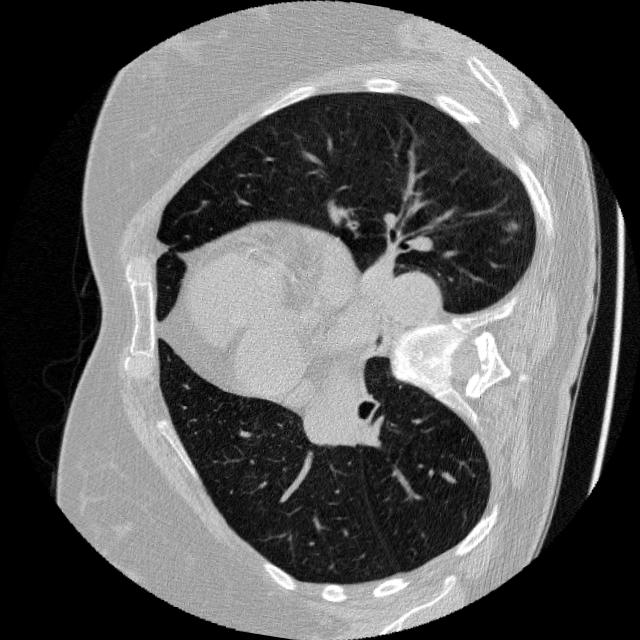nodule: (496, 210, 528, 242)
